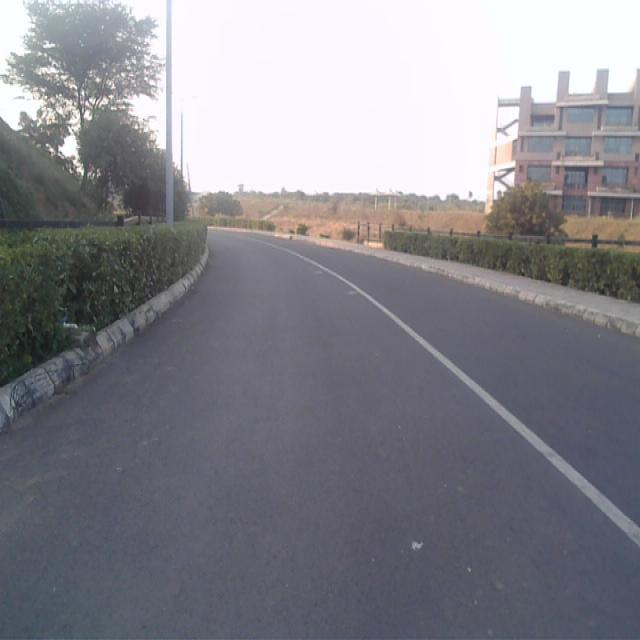lane: (0, 230, 640, 640)
